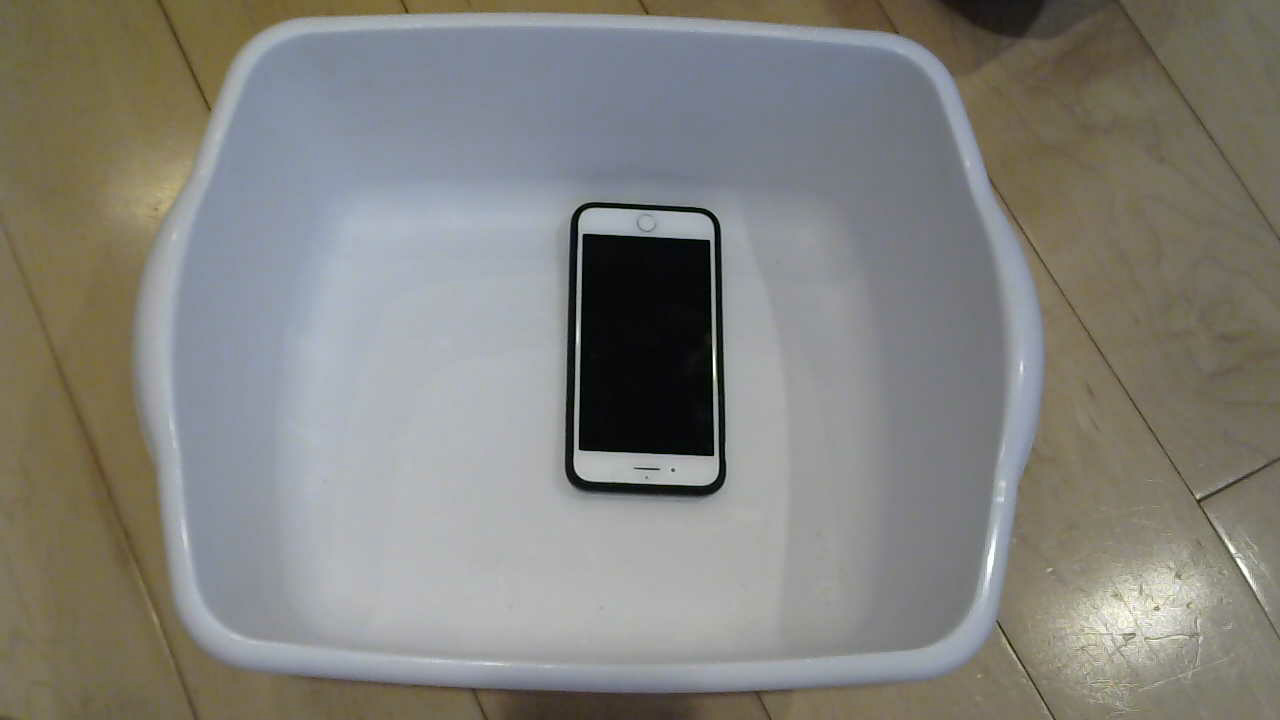phone: (544, 179, 751, 512)
